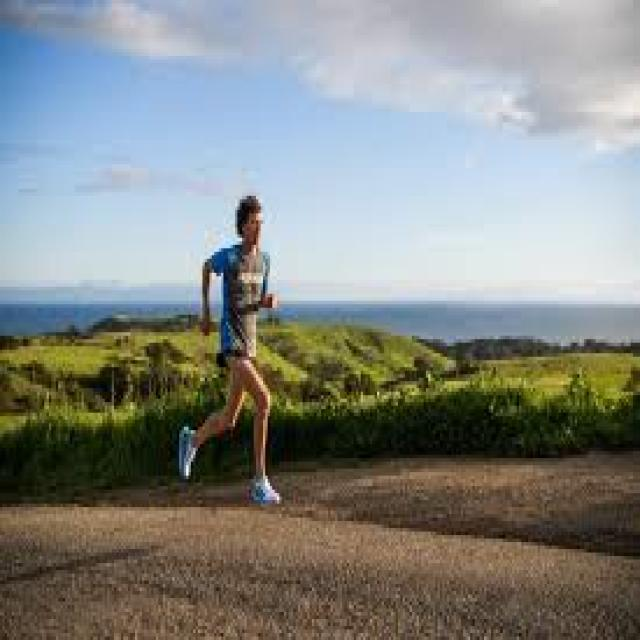running: (176, 193, 287, 512)
